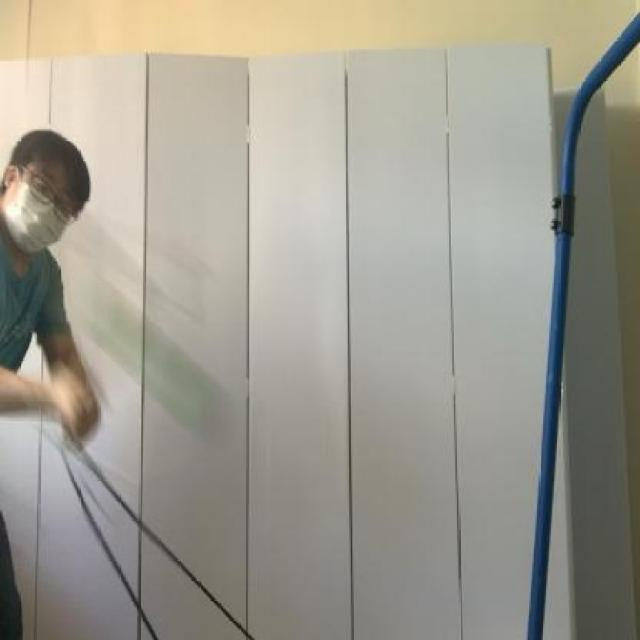baseball: (64, 284, 244, 444)
